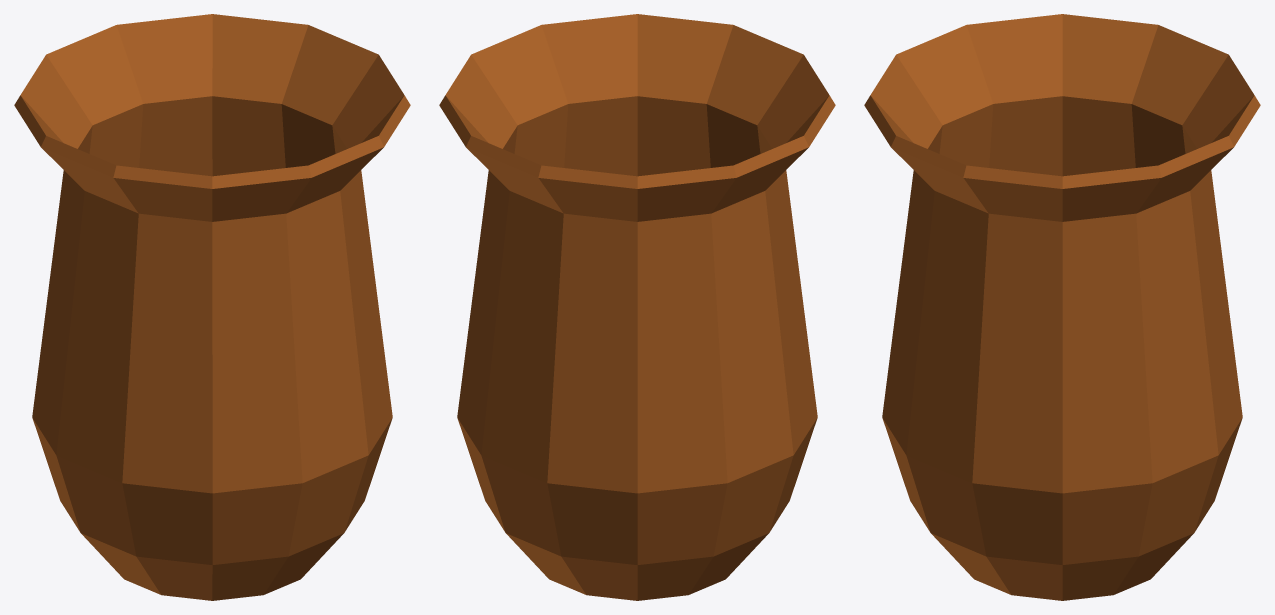
The model's file is SM_pottery_004.FBX.
3 views of the same model, side by side, from view 1: azimuth 30°, elevation 25°; view 2: azimuth 150°, elevation 25°; view 3: azimuth 270°, elevation 25° (orthographic).
Visible parts, largest first — view 1: Object088; view 2: Object088; view 3: Object088.
Part boxes in pixels (x1,y1,x2,y2): Object088: (14, 14, 410, 600); Object088: (439, 14, 835, 600); Object088: (864, 14, 1260, 600).
Bounding box in the file's own units: 47.4 × 61.02 × 47.4.
